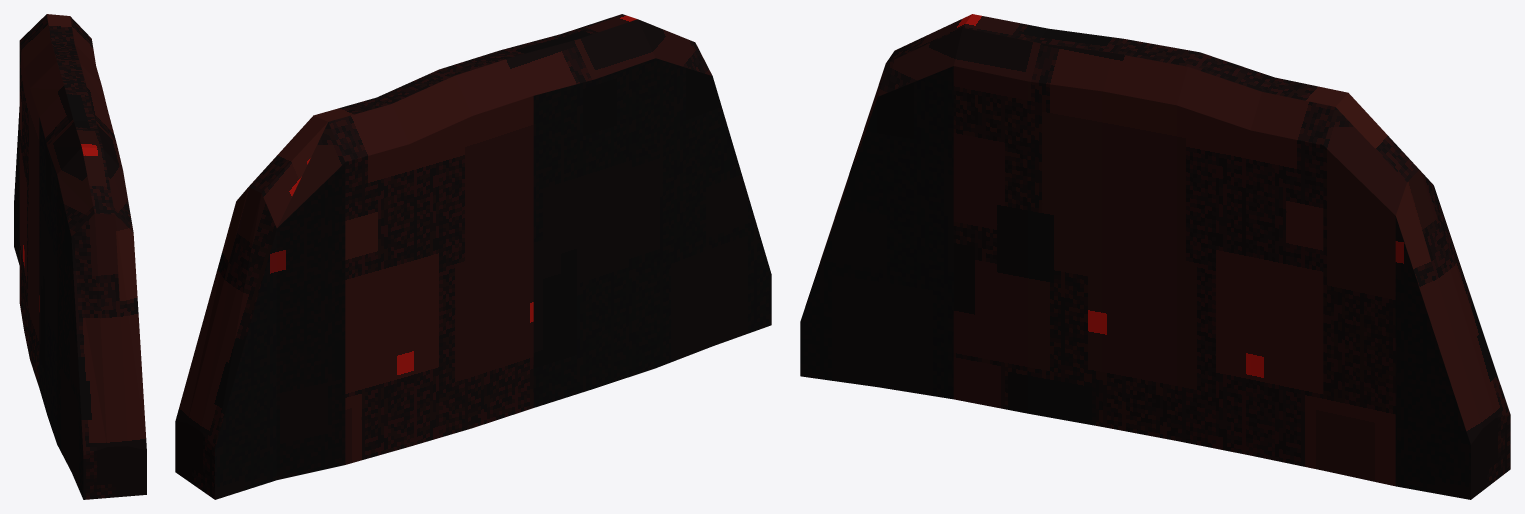
File: map_base_lip204.glb
3 renders of one model, left to right at view 1: azimuth 30°, elevation 25°; view 2: azimuth 150°, elevation 25°; view 3: azimuth 270°, elevation 25°, orthographic. The views are drawn at different scales.
Visible parts, largest first — view 1: MapBaseLip204Rock; view 2: MapBaseLip204Rock; view 3: MapBaseLip204Rock.
Part boxes in pixels (x1,y1,x2,y2): MapBaseLip204Rock: (14, 14, 146, 499); MapBaseLip204Rock: (175, 14, 771, 499); MapBaseLip204Rock: (800, 14, 1510, 499).
Size of what is drawn, in the model's own units: 3.94 by 4.34 by 7.61.
Materials: 2 (2 with a texture image).
